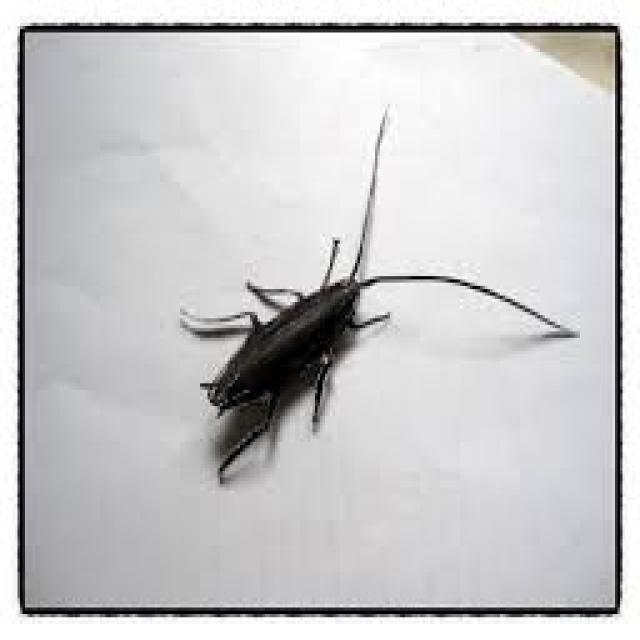Cockroach: (176, 173, 459, 488)
